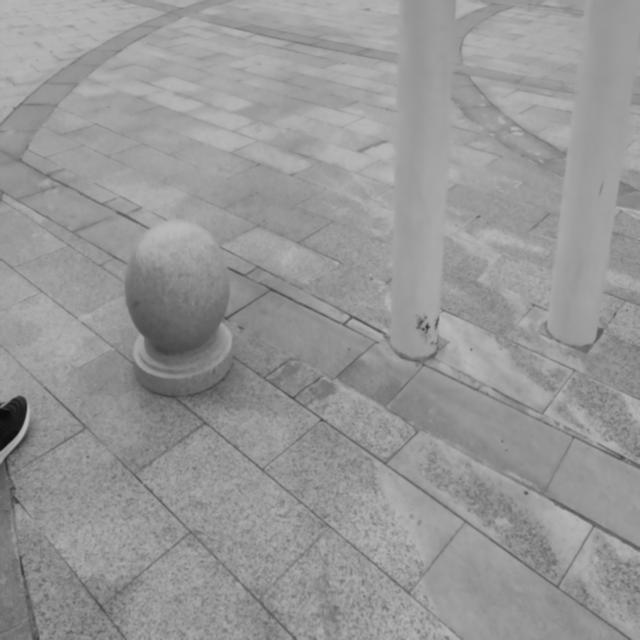pole: (542, 3, 634, 349), (385, 5, 454, 358)
spherical_roadblock: (120, 213, 236, 400)
